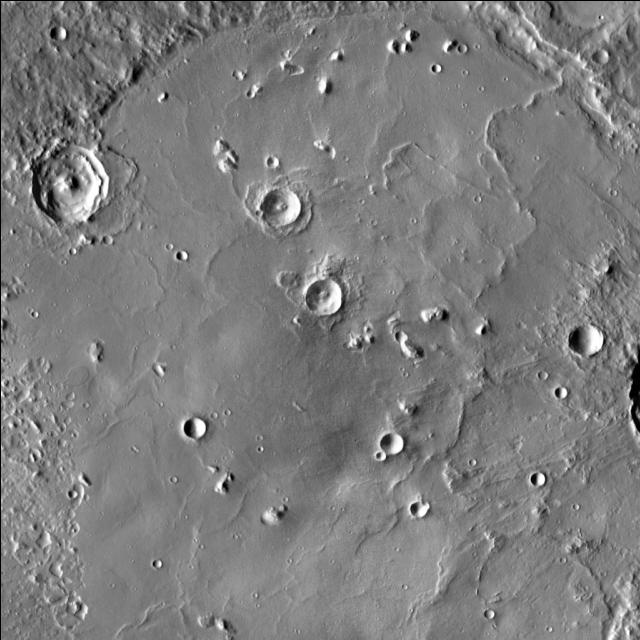crater: (0, 0, 640, 640), (418, 533, 610, 640), (33, 146, 113, 222), (266, 188, 306, 226), (310, 280, 347, 314), (572, 323, 606, 355), (90, 374, 120, 402), (385, 432, 408, 454), (188, 418, 210, 438), (54, 26, 70, 42), (597, 48, 613, 64), (415, 501, 431, 517), (534, 472, 550, 487), (559, 386, 572, 398), (180, 251, 192, 261), (436, 63, 446, 73), (272, 157, 282, 167), (156, 557, 166, 567), (489, 608, 499, 618), (542, 369, 552, 379), (462, 43, 472, 53), (72, 488, 82, 497), (108, 234, 118, 243), (380, 452, 390, 461), (66, 254, 73, 262), (244, 98, 252, 105), (167, 483, 174, 490), (163, 250, 170, 257), (608, 196, 616, 202), (28, 318, 35, 324), (466, 467, 474, 472), (570, 511, 578, 516)
